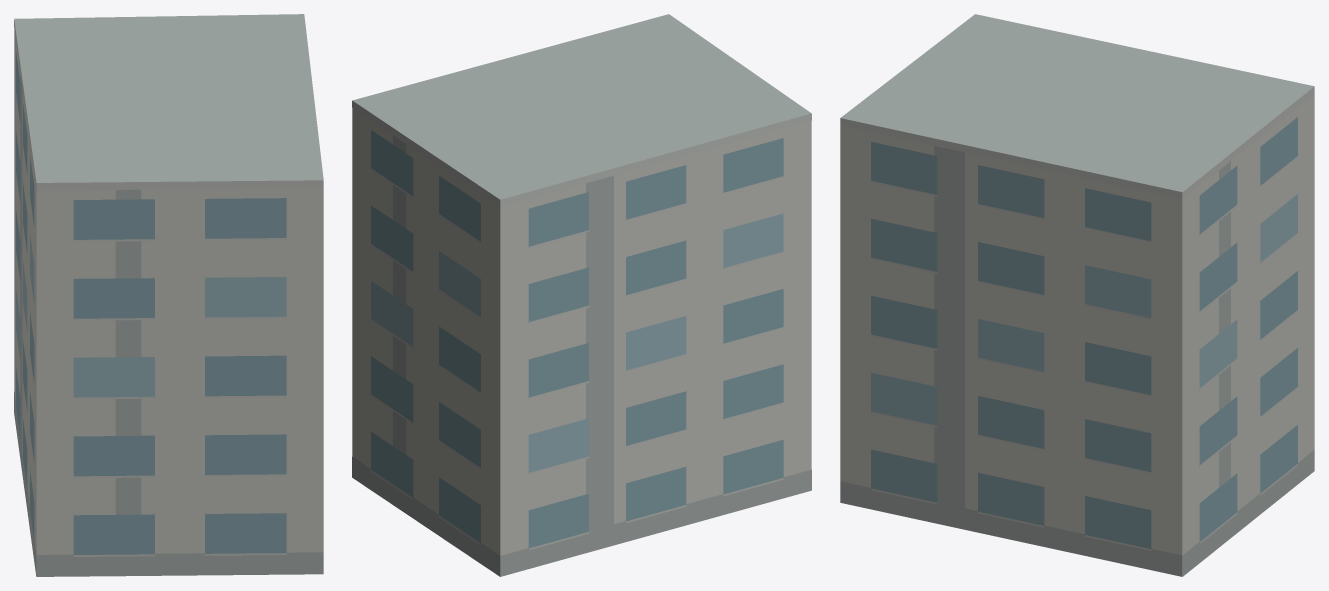
File: survey-upis-32981310.glb
The picture shows the model from 3 angles, left to right: view 1: azimuth 30°, elevation 25°; view 2: azimuth 150°, elevation 25°; view 3: azimuth 270°, elevation 25°; orthographic projection. The views are drawn at different scales.
Visible parts, largest first — view 1: survey-upis-32981310.tmp; view 2: survey-upis-32981310.tmp; view 3: survey-upis-32981310.tmp.
Part boxes in pixels (bbox=[...]): survey-upis-32981310.tmp: bbox=[14, 14, 323, 576]; survey-upis-32981310.tmp: bbox=[352, 14, 811, 576]; survey-upis-32981310.tmp: bbox=[840, 14, 1314, 576].
Size of the model in its own units: 12.43 by 12.5 by 13.98.
